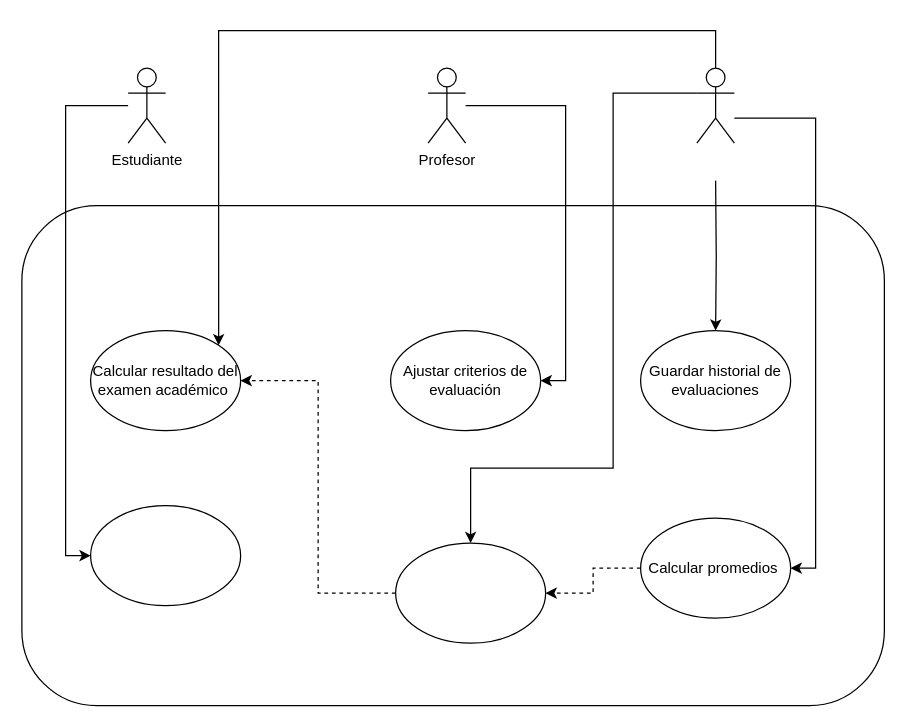
Image size: 906x728. Some labels were removed from this diagram. Each missing label, with the centre of its shape:
"Analizar Respuestas con IA" goes at (470,592).
"SIstema" goes at (715,105).
"Visualizar nota" goes at (165,555).
